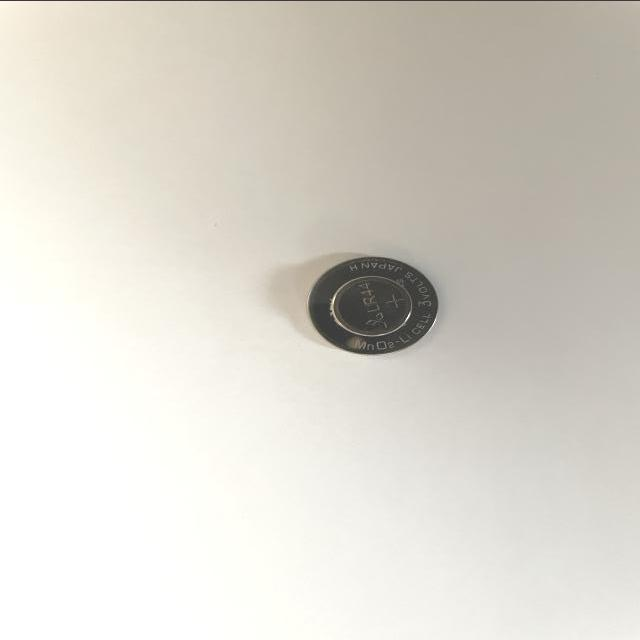COIN: (306, 255, 441, 356), (332, 275, 416, 336)
